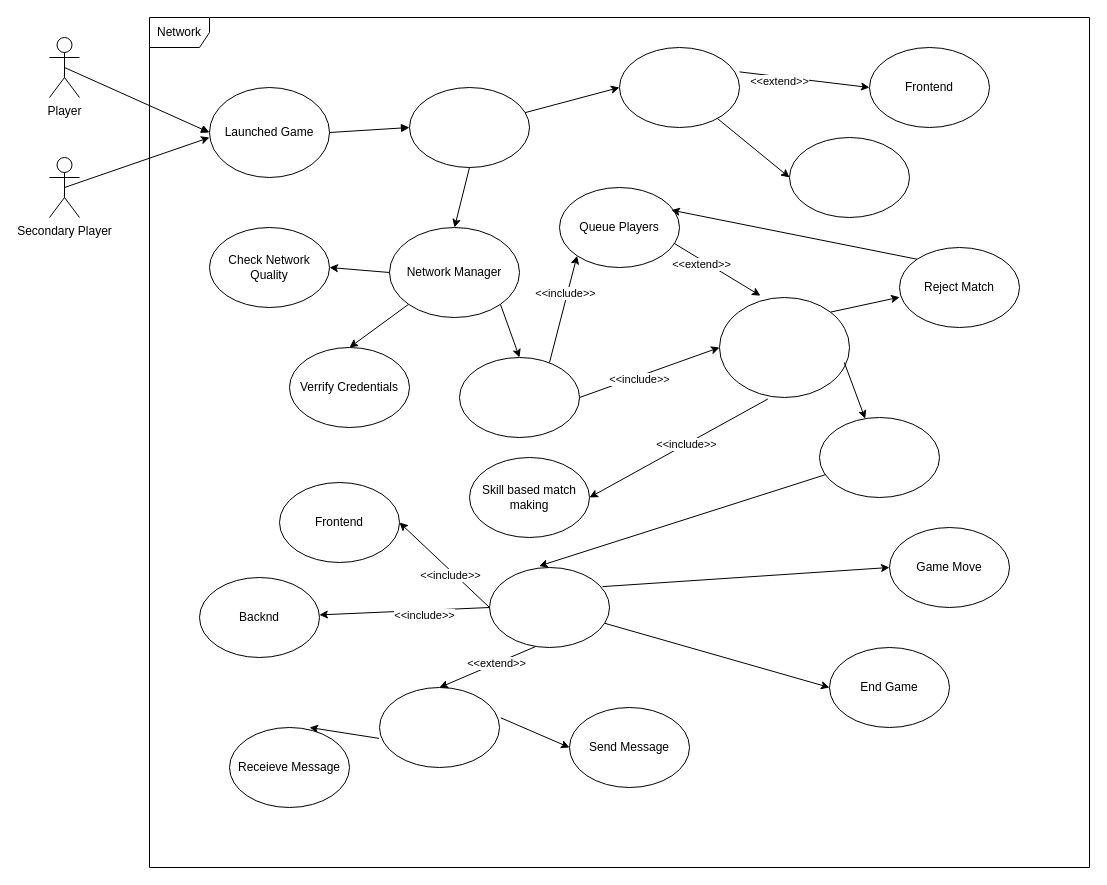
The diagram is 1107 pixels wide and 885 high, and some of its shapes have lost their labels. The centre of each missing label's shape, as x and y in pixels:
"Accept Match" goes at (879,457).
"Backend" goes at (849,177).
"Chat Manager" goes at (439,727).
"Connect Players" goes at (519,397).
"Initiate Game" goes at (549,607).
"Main Menu" goes at (469,127).
"Matchmaking Service" goes at (784,347).
"View Leaderboard" goes at (679,87).
